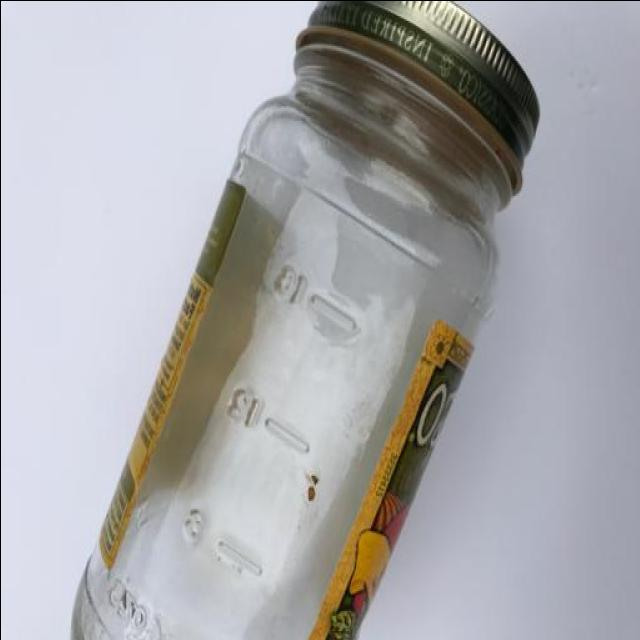glass: (62, 0, 554, 640)
